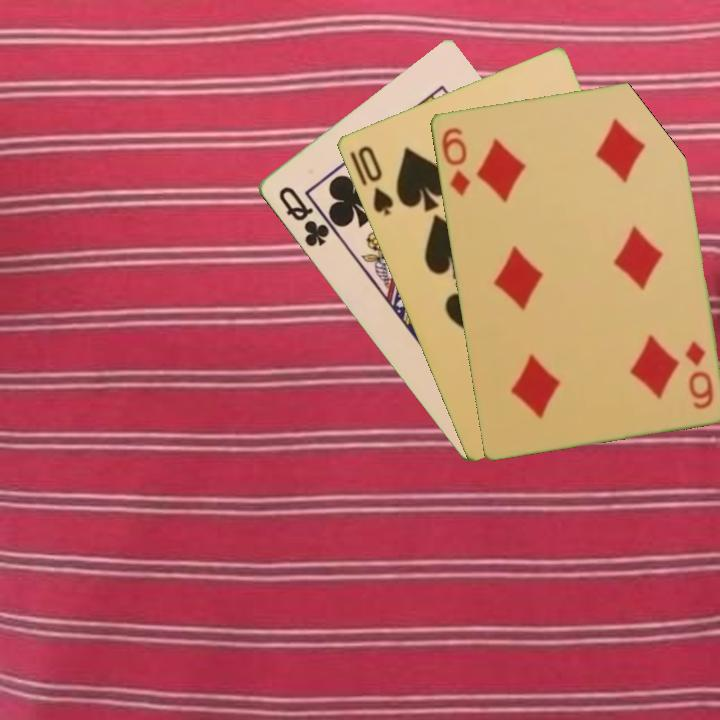10s: (353, 142, 396, 218)
6d: (437, 123, 473, 199), (681, 337, 716, 412)
Qc: (274, 182, 332, 250)
